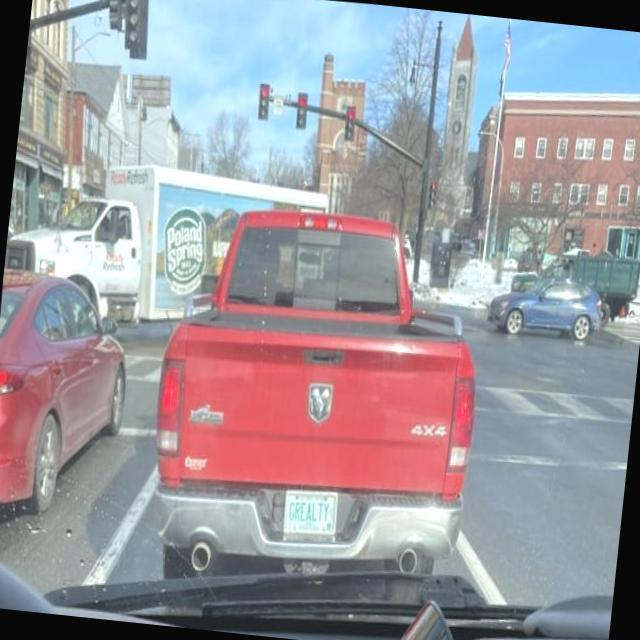license-plate: (289, 486, 344, 544)
